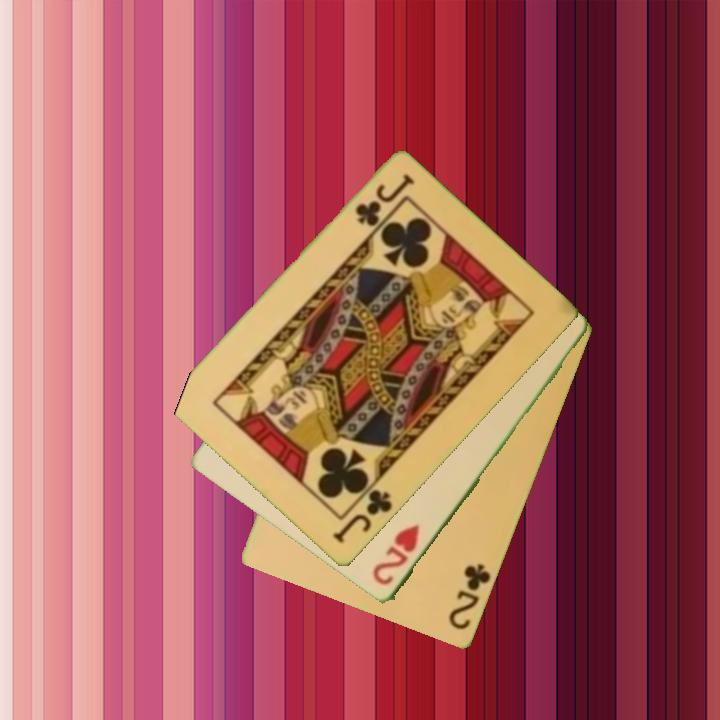2c: (445, 560, 494, 633)
2h: (369, 520, 423, 589)
Jc: (329, 477, 395, 547), (351, 170, 416, 231)
